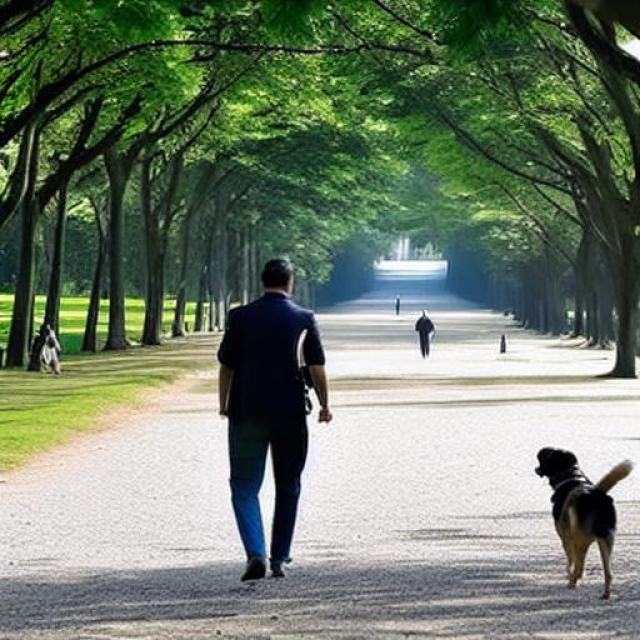Unleashed_Dog: (228, 402, 633, 600)
